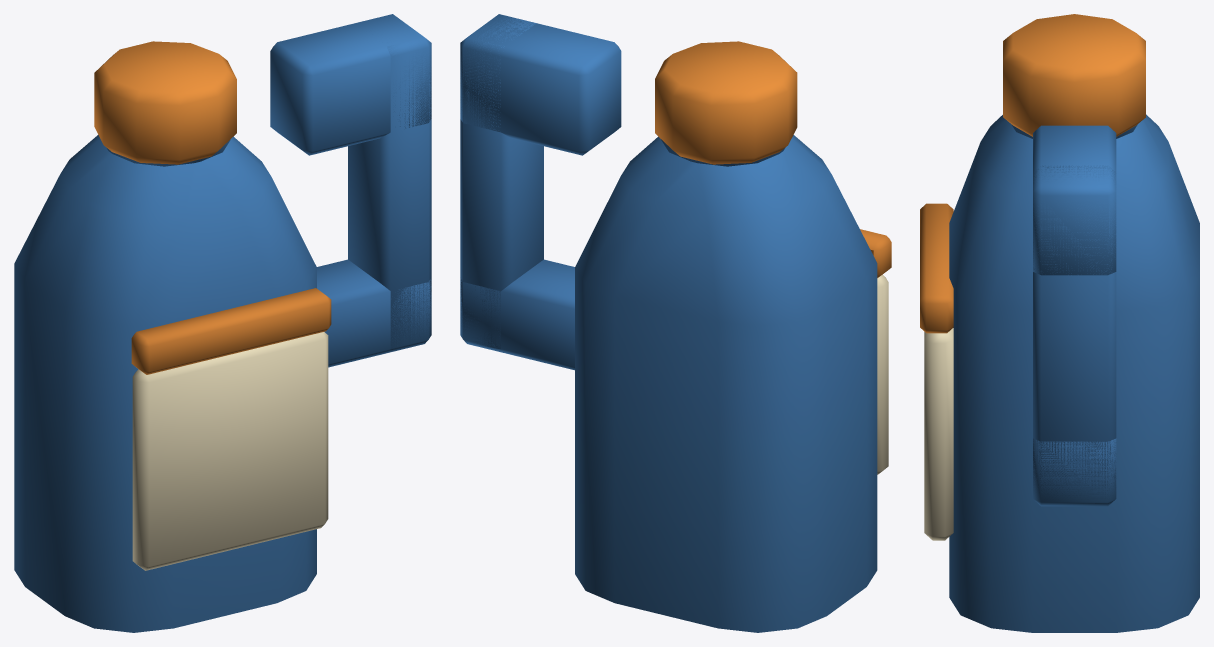
File: Detergent_Jug_Blue_01.glb
3 renders of one model, left to right at view 1: azimuth 30°, elevation 25°; view 2: azimuth 150°, elevation 25°; view 3: azimuth 270°, elevation 25°, orthographic. The views are drawn at different scales.
Visible parts, largest first — view 1: SM_Detergent_Jug_Blue_01; view 2: SM_Detergent_Jug_Blue_01; view 3: SM_Detergent_Jug_Blue_01.
Part boxes in pixels (x1=…): SM_Detergent_Jug_Blue_01: x1=14, y1=14, x2=431, y2=632; SM_Detergent_Jug_Blue_01: x1=460, y1=14, x2=891, y2=632; SM_Detergent_Jug_Blue_01: x1=920, y1=14, x2=1199, y2=632.
Bounding box in the file's own units: 0.215 × 0.28 × 0.134.
Materials: 1 (1 with a texture image).
